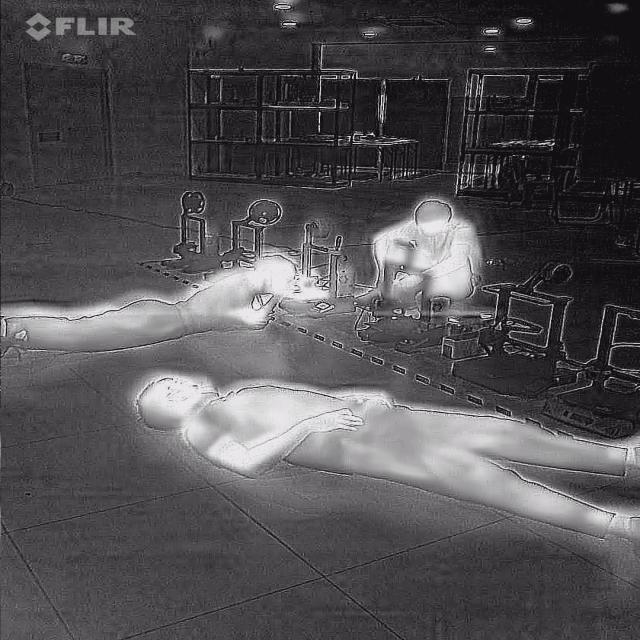Victim: (117, 362, 639, 541), (0, 250, 306, 359), (359, 194, 507, 314)
